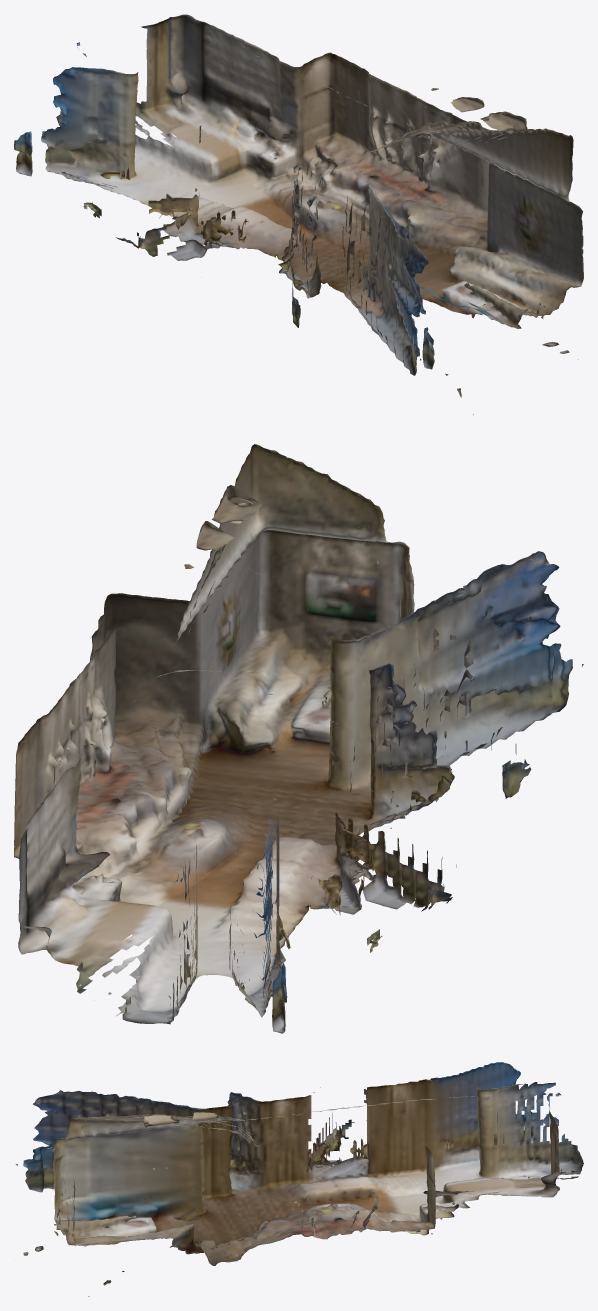
Rendered from Luxury Penthouse Master Bedroom Suite_collider.glb.
3 renders of one model, top to bottom at view 1: azimuth 30°, elevation 25°; view 2: azimuth 150°, elevation 25°; view 3: azimuth 270°, elevation 25°, orthographic. The views are drawn at different scales.
Parts seen in each view (by area): view 1: world; view 2: world; view 3: world.
Boxes of the visible parts, x1=… form: world: x1=14, y1=14, x2=583, y2=414; world: x1=14, y1=444, x2=583, y2=1033; world: x1=15, y1=1062, x2=583, y2=1296.
Size of the model in its own units: 9.61 by 6.96 by 16.83.
